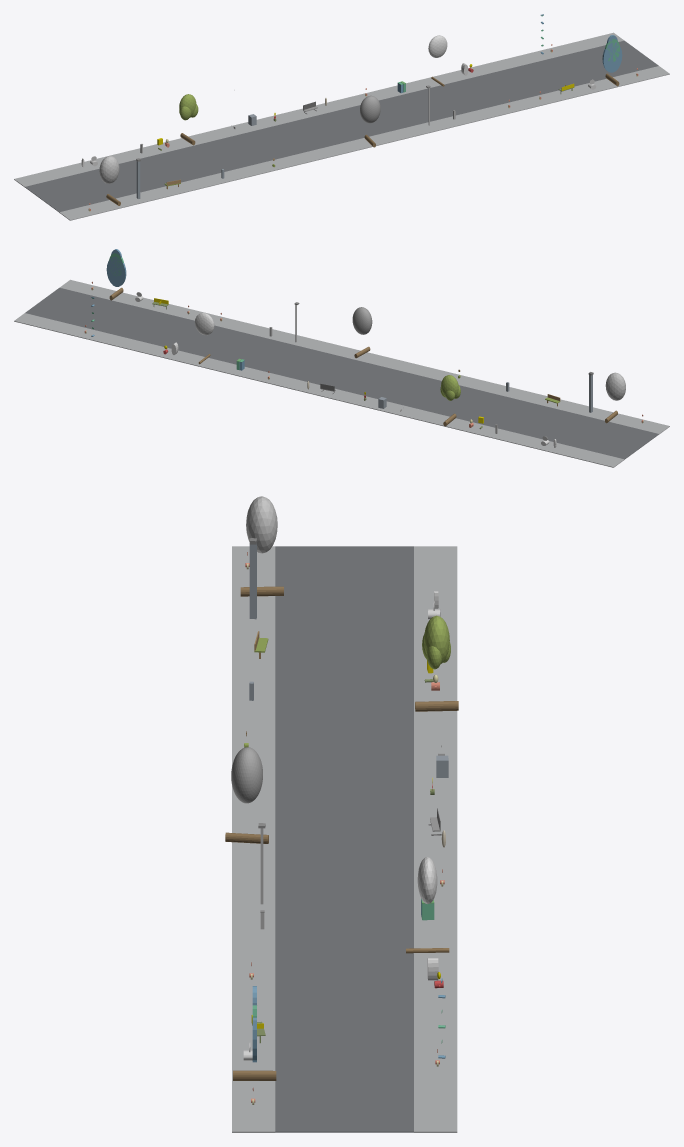
The picture shows the model from 3 angles, top to bottom: view 1: azimuth 30°, elevation 25°; view 2: azimuth 150°, elevation 25°; view 3: azimuth 270°, elevation 25°; orthographic projection. The views are drawn at different scales.
Visible parts, largest first — view 1: road_slab, sidewalk_left, sidewalk_right, inst_0016, inst_0012, inst_0014, inst_0013, inst_0015; view 2: road_slab, sidewalk_right, sidewalk_left, inst_0016, inst_0012, inst_0014, inst_0013, inst_0015; view 3: road_slab, sidewalk_right, sidewalk_left, inst_0014, inst_0012, inst_0013, inst_0015.
Part boxes in pixels (x1,y1,x2,y2): road_slab: [25, 40, 658, 212]; sidewalk_left: [59, 66, 669, 220]; sidewalk_right: [14, 32, 623, 187]; inst_0016: [602, 35, 622, 86]; inst_0012: [99, 156, 120, 205]; inst_0014: [360, 95, 380, 147]; inst_0013: [179, 94, 198, 145]; inst_0015: [428, 35, 447, 86]; road_slab: [25, 287, 658, 459]; sidewalk_right: [14, 313, 624, 467]; sidewalk_left: [60, 279, 669, 434]; inst_0016: [106, 249, 126, 300]; inst_0012: [605, 372, 625, 423]; inst_0014: [352, 307, 372, 358]; inst_0013: [440, 375, 460, 426]; inst_0015: [194, 313, 214, 364]; road_slab: [275, 546, 413, 1132]; sidewalk_right: [414, 546, 457, 1132]; sidewalk_left: [232, 546, 275, 1132]; inst_0014: [225, 747, 268, 843]; inst_0012: [240, 496, 283, 596]; inst_0013: [415, 615, 458, 711]; inst_0015: [406, 857, 449, 953].
Size of the model in its own units: 80 by 6.08 by 13.48.
